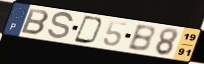5: (102, 20, 129, 47)
8: (154, 27, 180, 58)
B: (19, 8, 51, 37), (126, 24, 157, 53)
D: (72, 15, 105, 46)
S: (46, 11, 75, 41)
